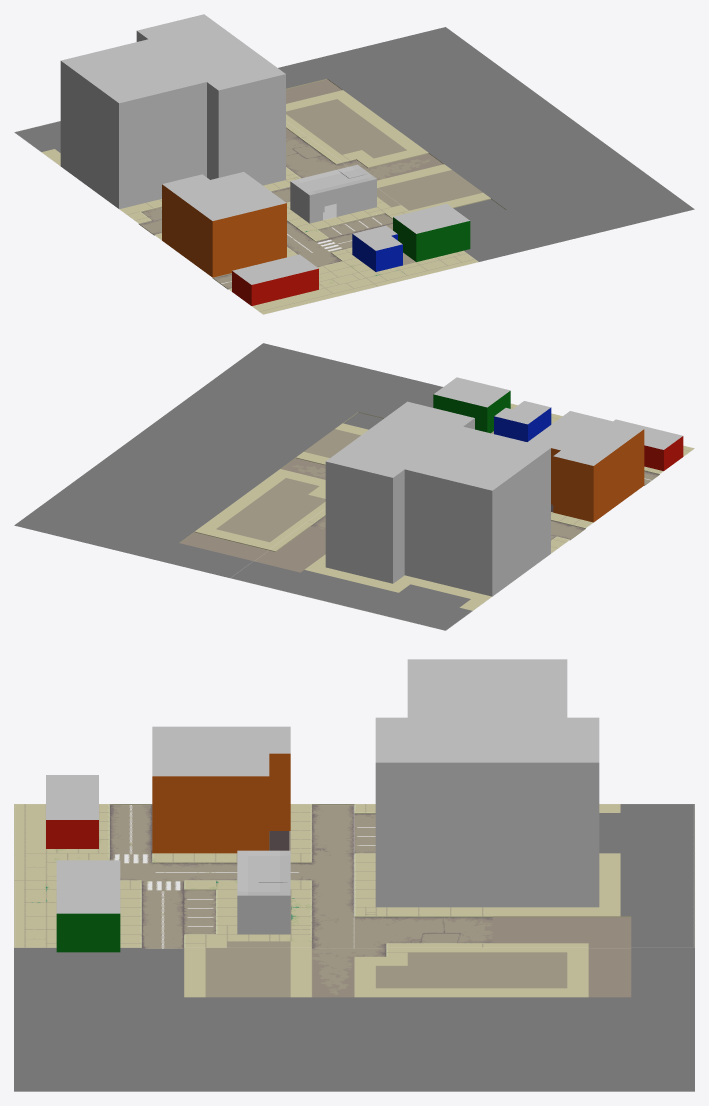
File: city1.obj
3 renders of one model, top to bottom at view 1: azimuth 30°, elevation 25°; view 2: azimuth 150°, elevation 25°; view 3: azimuth 270°, elevation 25°, orthographic. The views are drawn at different scales.
Visible parts, largest first — view 1: street1, Cube.004, Cube.003, store, Cube.001, Cube.005, Cube.002; view 2: street1, Cube.004, Cube.003, Cube.001, Cube.002, Cube.005; view 3: street1, Cube.004, Cube.003, Cube.001, store, Cube.005, Cube.002.
Part boxes in pixels (bbox=[...]): street1: bbox=[14, 27, 694, 314]; Cube.004: bbox=[60, 14, 285, 209]; Cube.003: bbox=[162, 172, 286, 277]; store: bbox=[290, 164, 376, 223]; Cube.001: bbox=[393, 203, 470, 261]; Cube.005: bbox=[232, 254, 318, 305]; Cube.002: bbox=[352, 225, 402, 271]; street1: bbox=[14, 343, 694, 630]; Cube.004: bbox=[325, 401, 550, 596]; Cube.003: bbox=[527, 411, 644, 522]; Cube.001: bbox=[433, 377, 510, 433]; Cube.002: bbox=[494, 401, 551, 441]; Cube.005: bbox=[613, 419, 683, 470]; street1: bbox=[14, 804, 694, 1091]; Cube.004: bbox=[375, 659, 599, 907]; Cube.003: bbox=[152, 726, 290, 853]; Cube.001: bbox=[56, 877, 120, 952]; store: bbox=[237, 850, 290, 934]; Cube.005: bbox=[46, 775, 98, 848]; Cube.002: bbox=[56, 860, 120, 877].
Bounding box in the file's own units: 64 × 15.1 × 64.
